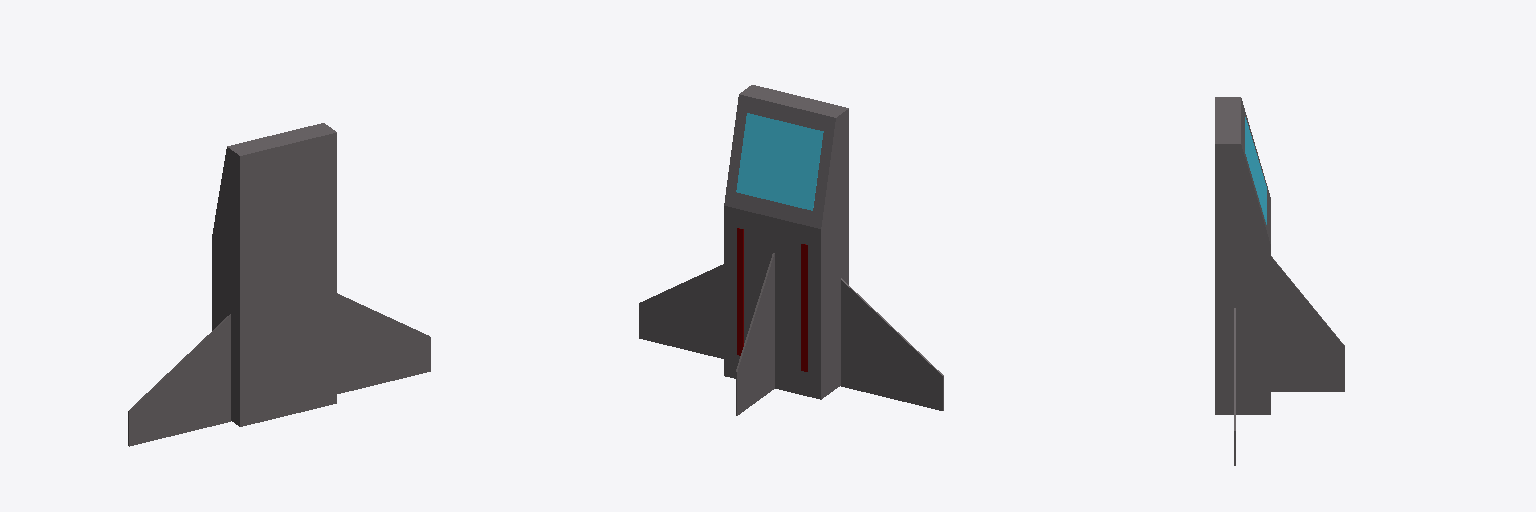
File: Player.obj
3 renders of one model, left to right at view 1: azimuth 30°, elevation 25°; view 2: azimuth 150°, elevation 25°; view 3: azimuth 270°, elevation 25°, orthographic.
Visible parts, largest first — view 1: Box002, Line002, Line001; view 2: Box002, Line002, Box003, Line001, Line003, Box005, Box004; view 3: Box002, Line003, Box003.
Part boxes in pixels (x1,y1,x2,y2): Box002: (212, 123, 336, 426); Line002: (128, 314, 230, 446); Line001: (337, 293, 430, 393); Box002: (724, 85, 848, 399); Line002: (841, 278, 943, 410); Box003: (736, 113, 823, 210); Line001: (639, 264, 723, 358); Line003: (736, 253, 774, 415); Box005: (801, 244, 807, 371); Box004: (737, 228, 743, 355); Box002: (1215, 97, 1270, 414); Line003: (1271, 256, 1344, 391); Box003: (1245, 117, 1266, 224).
Bounding box in the file's own units: 46.81 × 40.04 × 17.5.